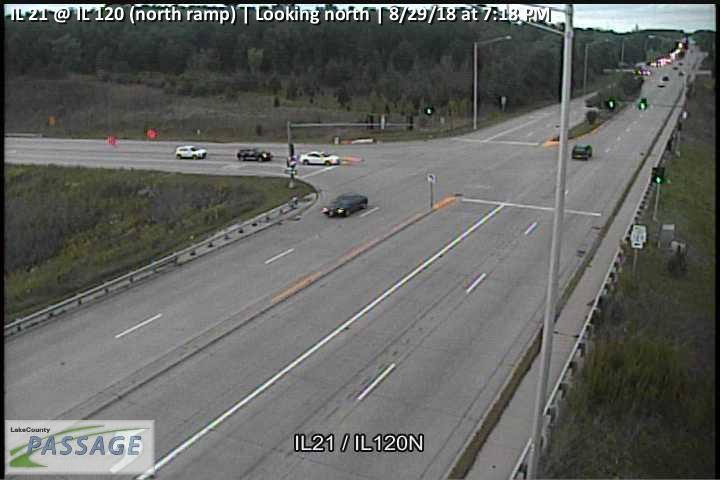SUV: (236, 147, 274, 163), (175, 144, 206, 159), (570, 142, 592, 160)
Sedan: (321, 192, 368, 218), (298, 150, 340, 167)
